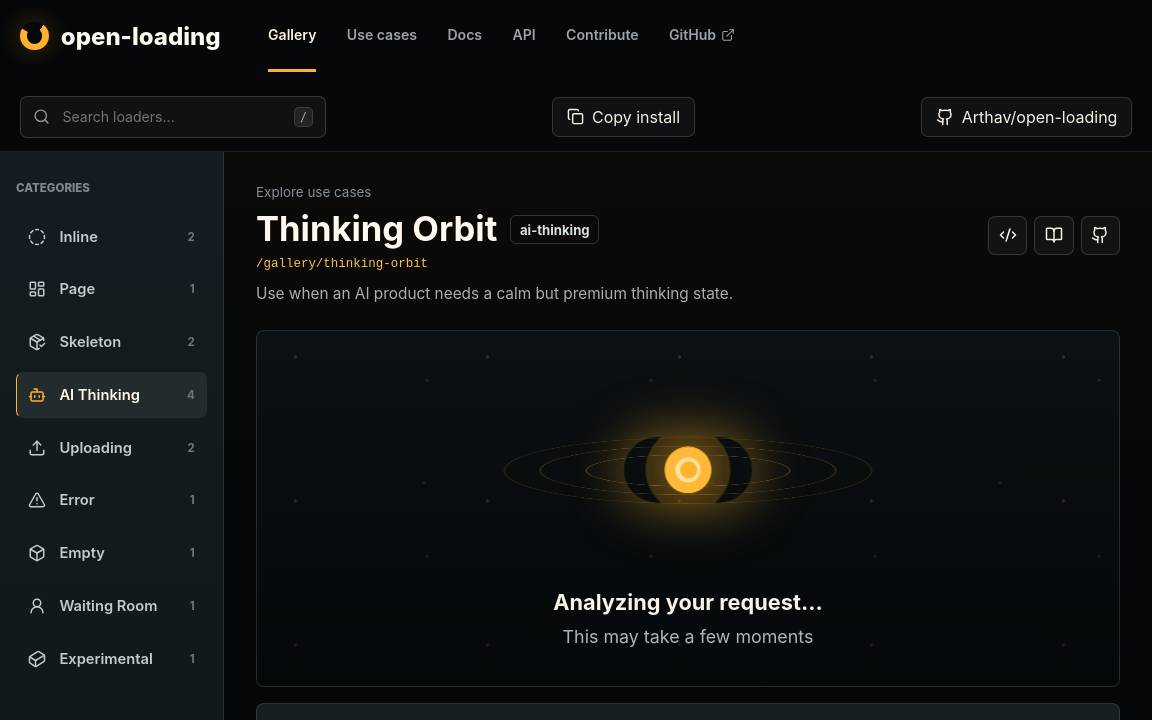
Scenario: gallery app › renders the waiting-room loader from registry data
Click the button "Waiting Room 1" at point(112, 606), box [16,583,207,629]
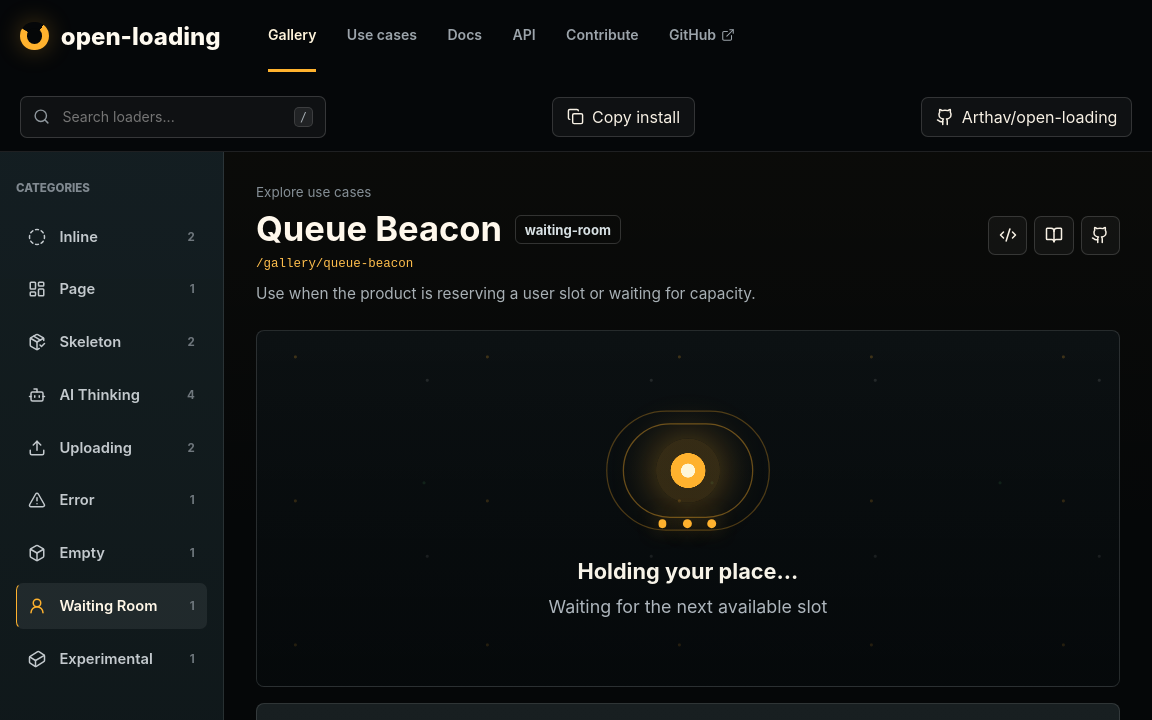
Check: the heading "Queue Beacon" is shown, box [256,212,502,247]
Check: the message named "Queue beacon loading state" shows "Holding your place...", box [578,559,798,584]
Check: the link "/gallery/queue-beacon" is shown, box [256,257,413,271]
